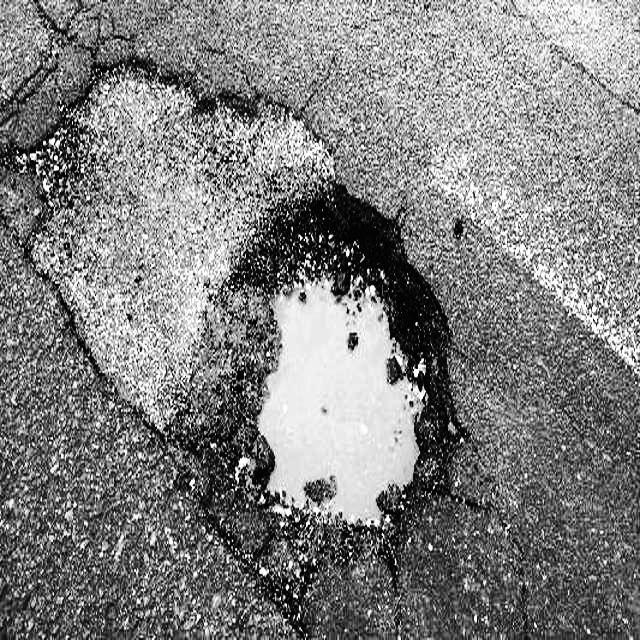Pothole: (211, 174, 461, 563)
